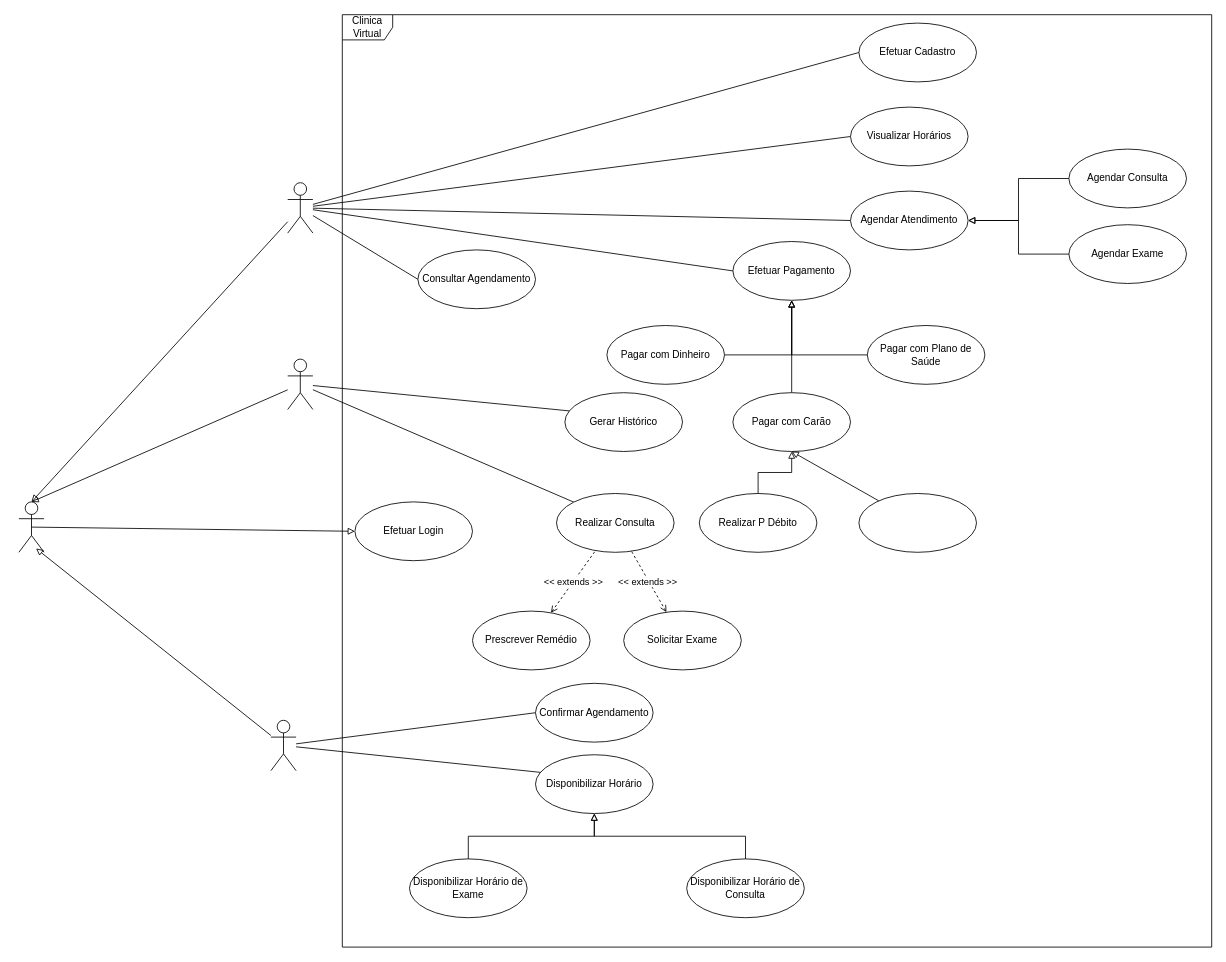
This 1226x962 diagram has some shape labels left out. The shapes that lost their labels are listed below. From the top down, each one's centre as x and y in pixels, then its label:
point (300, 207): Paciente
point (300, 384): Médico
point (31, 526): Usuario
point (917, 522): Realizar P Crédito
point (283, 745): Secretária
